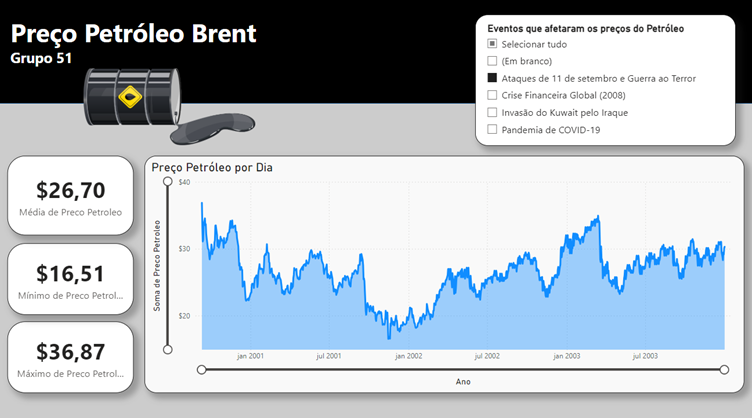

What the dashboard file says about the page in this screenshot:
{"tool":"powerbi","page":{"name":"Página 1","canvas":[1280,720],"ordinal":0},"visuals":[{"type":"lineChart","title":"Preço Petróleo por Dia","fields":{"Y":["Sum(PRECO_PETROLEO - Página1.Preco Petroleo)"],"Category":["PRECO_PETROLEO - Página1.Data.Variation.Hierarquia de datas.Ano","PRECO_PETROLEO - Página1.Data.Variation.Hierarquia de datas.Trimestre","PRECO_PETROLEO - Página1.Data.Variation.Hierarquia de datas.Mês","PRECO_PETROLEO - Página1.Data.Variation.Hierarquia de datas.Dia"]},"box":[249.7,269,1011.3,400.7],"z":0},{"type":"card","fields":{"Values":["Max(PRECO_PETROLEO - Página1.Preco Petroleo)"]},"box":[17.8,548.9,212.7,120.8],"z":1000},{"type":"card","fields":{"Values":["Min(PRECO_PETROLEO - Página1.Preco Petroleo)"]},"box":[17.8,417.2,212.7,120.8],"z":2000},{"type":"card","fields":{"Values":["Avg(PRECO_PETROLEO - Página1.Preco Petroleo)"]},"box":[17.8,269,212.7,134.5],"z":3000},{"type":"shape","box":[0,0,1280.3,181.1],"z":4000},{"type":"textbox","title":"Preço Petróleo","box":[18.3,25.7,440.2,116.2],"z":5000},{"type":"slicer","fields":{"Values":["Página1.Eventos"]},"box":[807.1,30.6,439,221.3],"z":6000},{"type":"image","box":[141.8,36.7,299.6,299.6],"z":7000}]}

Visuals, with their boxes in screenshot pixels (x1, y1, x2, y2), scaled from the page's 1280x720 canvas onto the 752x418 screenshot:
"Preço Petróleo por Dia" lineChart: 147/156/741/389
card - Max(PRECO_PETROLEO - Página1.Preco Petroleo): 10/319/135/389
card - Min(PRECO_PETROLEO - Página1.Preco Petroleo): 10/242/135/312
card - Avg(PRECO_PETROLEO - Página1.Preco Petroleo): 10/156/135/234
shape: 0/0/751/105
"Preço Petróleo" textbox: 11/15/269/82
slicer - Página1.Eventos: 474/18/732/146
image: 83/21/259/195
